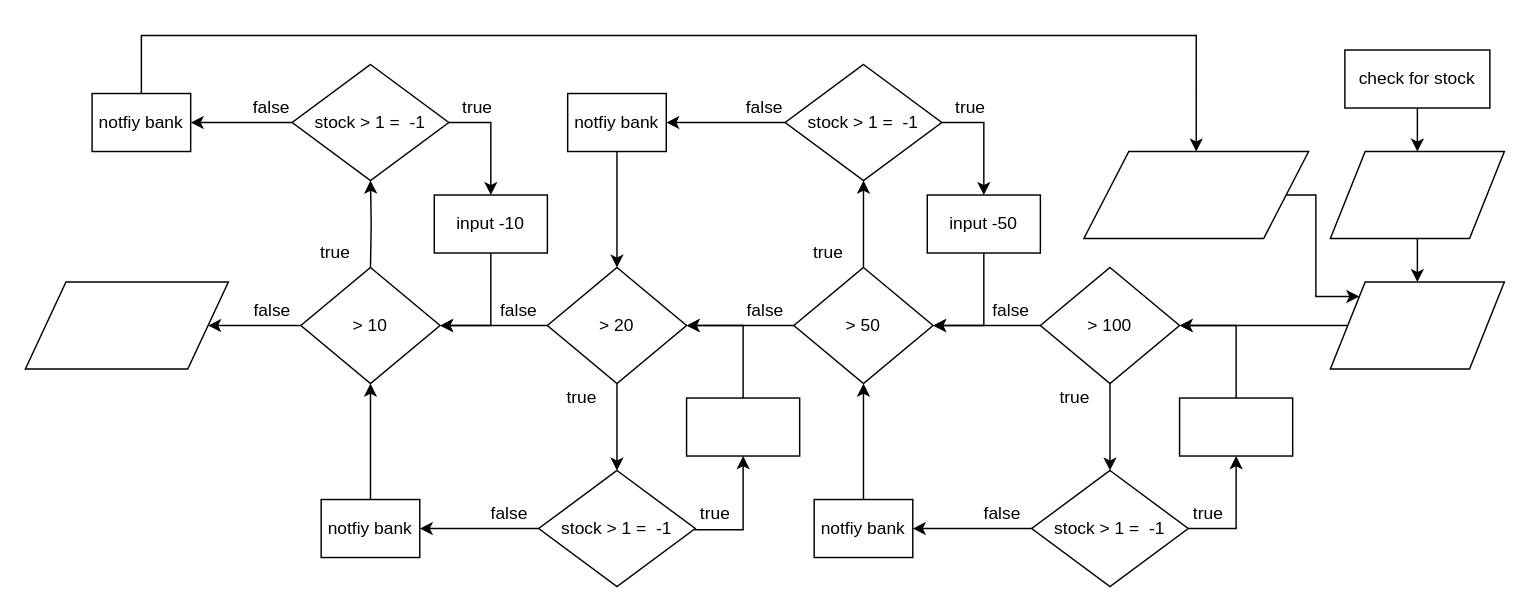
Some shapes in this 1530 by 612 pixel diagram are drawn without their labels. Each missing label, with the box of its shape:
atm output: (24, 281, 228, 369)
input: (1329, 281, 1504, 369)
input -100: (1178, 397, 1293, 456)
input -20: (685, 397, 800, 456)
output not available: (1082, 150, 1309, 239)
output stock: (1329, 150, 1504, 239)
